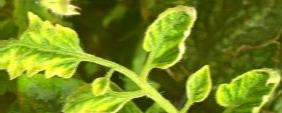Tomato leaf yellow virus: (0, 12, 89, 83), (137, 5, 197, 68), (210, 62, 279, 113), (60, 78, 133, 113), (183, 61, 210, 104)
